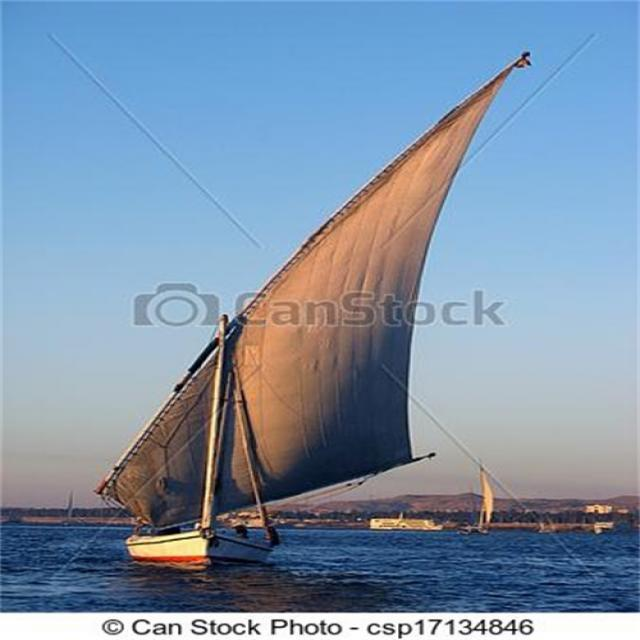Ship: (84, 50, 538, 571)
